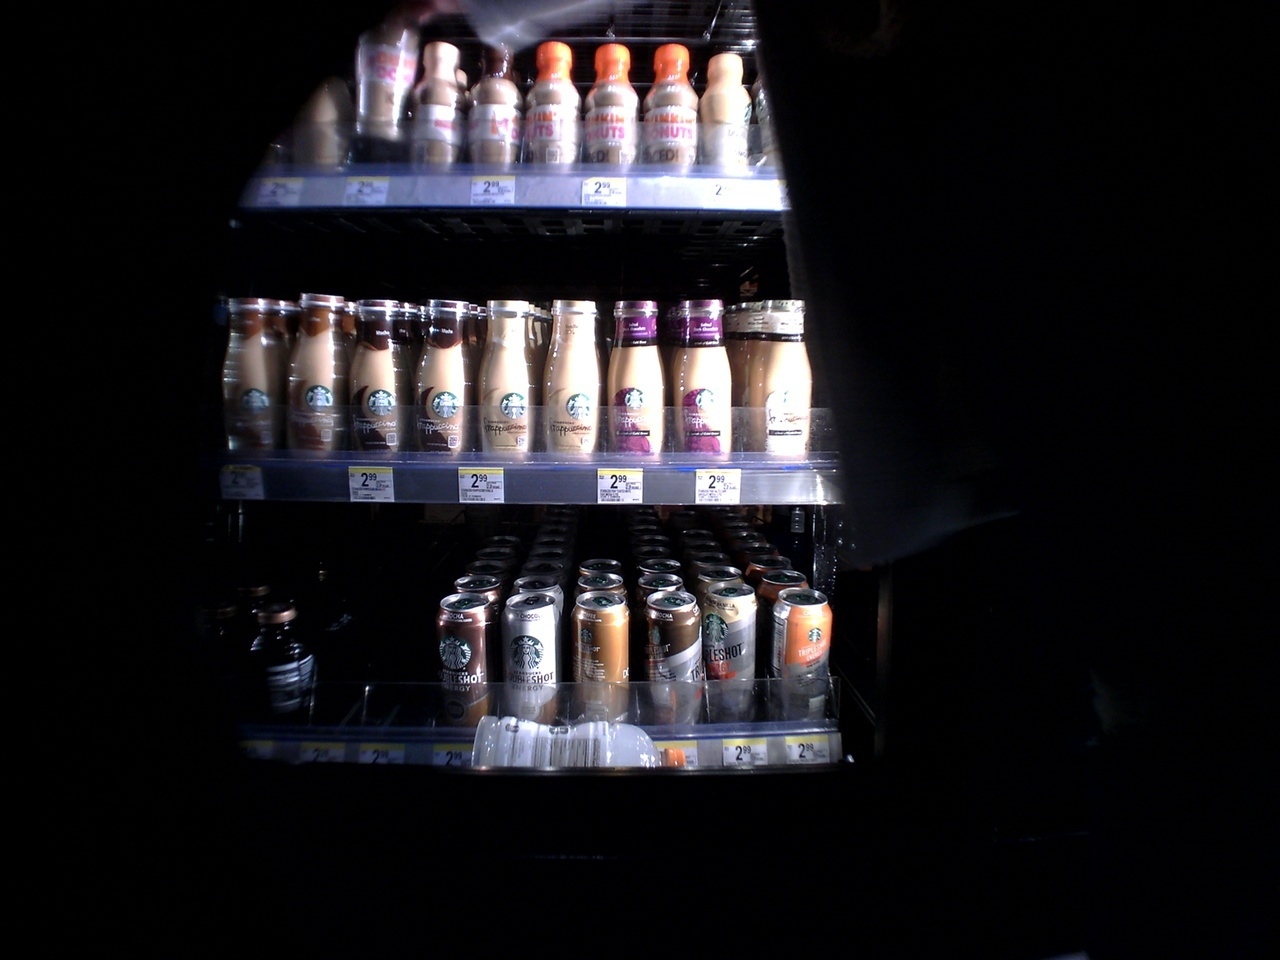shelf: (191, 529, 849, 762), (212, 259, 830, 506), (213, 8, 782, 215)
